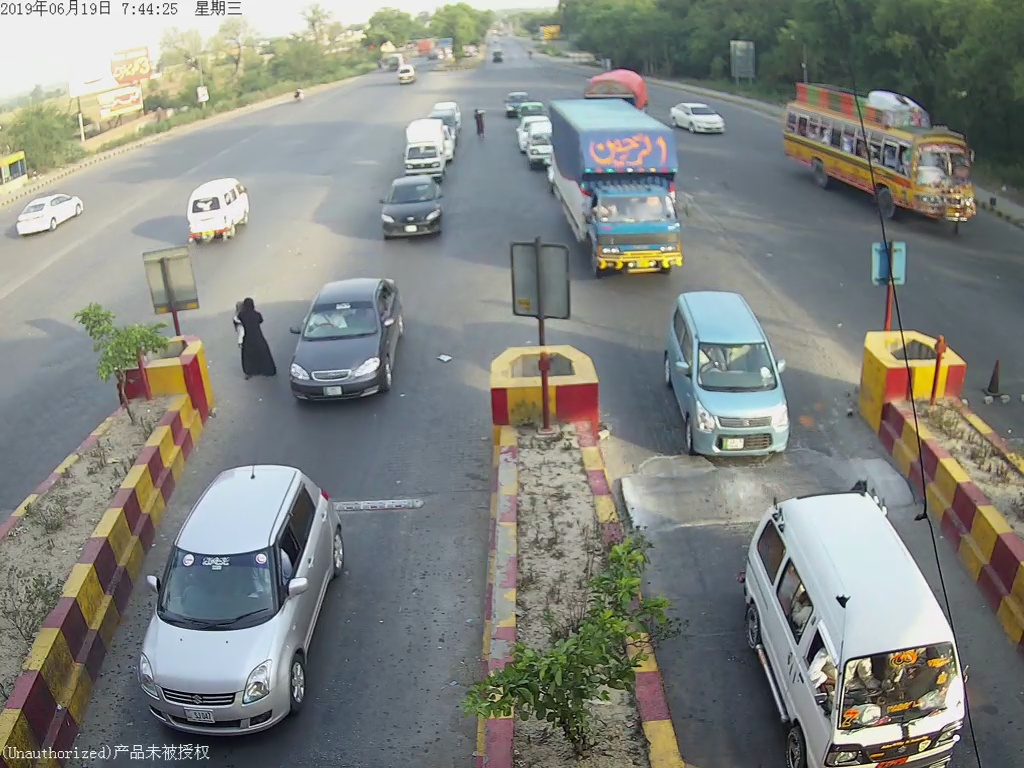Cat-1: (738, 492, 975, 768), (134, 468, 350, 724), (660, 295, 799, 456), (287, 275, 417, 407), (378, 180, 448, 242)
Cat-2: (551, 107, 689, 275)
